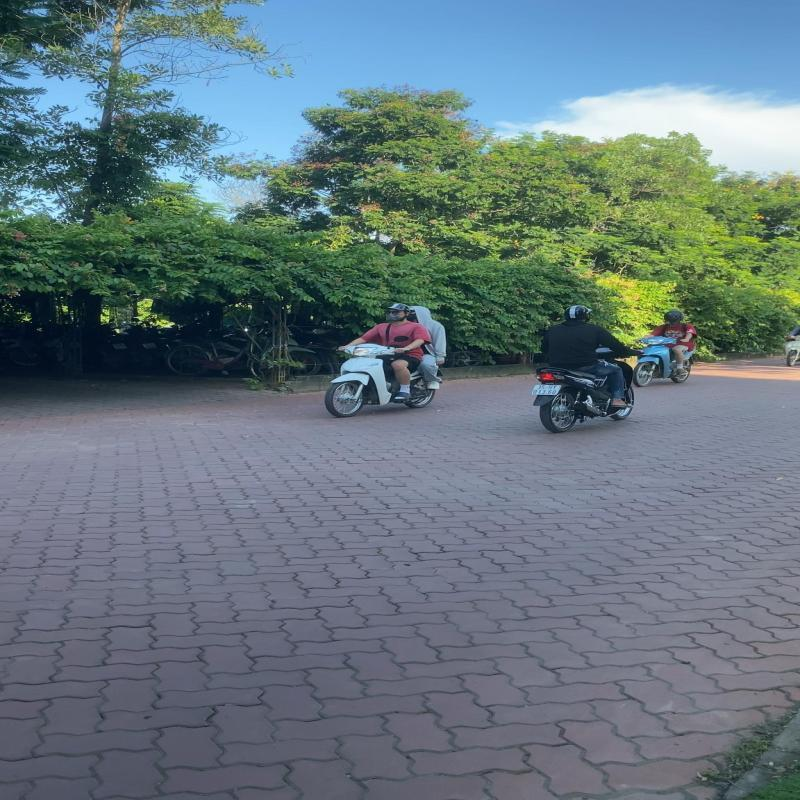helmet: (562, 306, 592, 322)
licenseplate: (532, 384, 562, 396)
motorcyclist: (531, 305, 637, 433)
